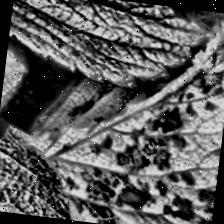Angular Leafspot: (12, 0, 224, 224)
